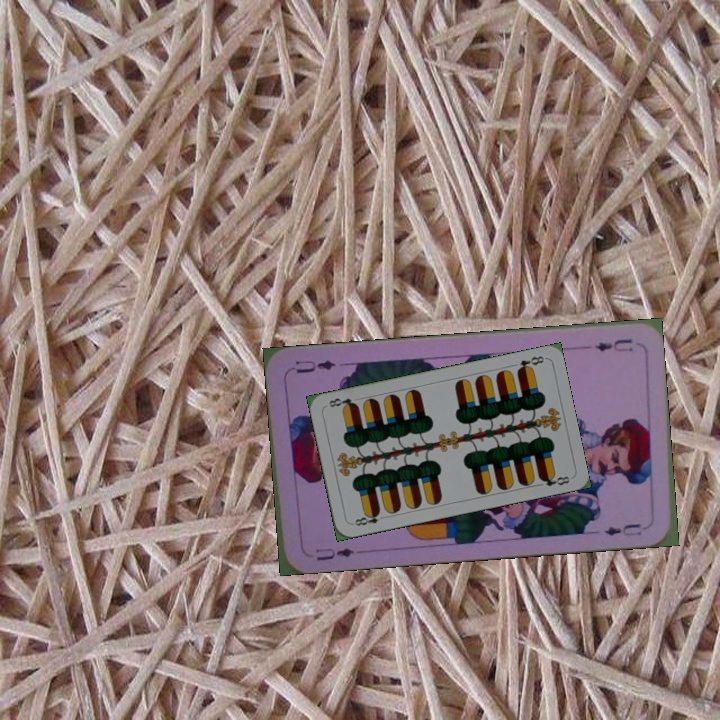E8: (348, 507, 389, 528), (513, 352, 547, 375)
EU: (312, 543, 362, 564), (591, 335, 636, 355)
